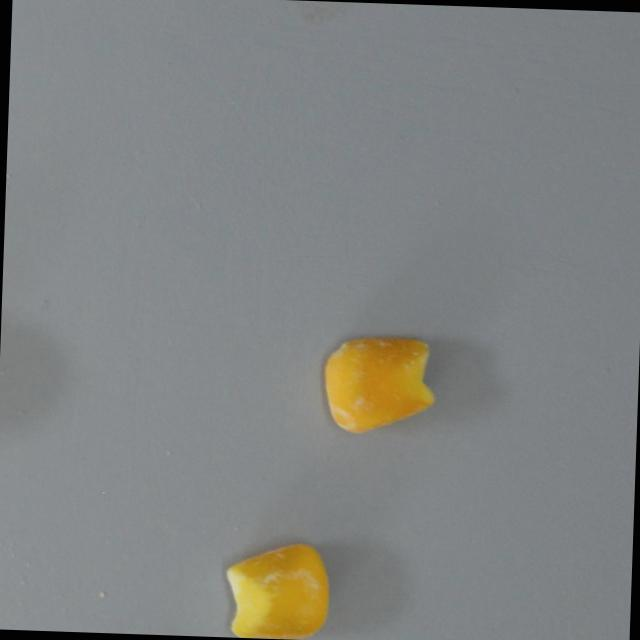dañado: (315, 329, 441, 440), (217, 534, 333, 640)
